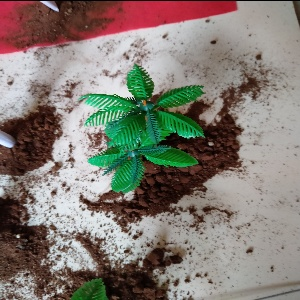plant: (74, 58, 223, 185)
